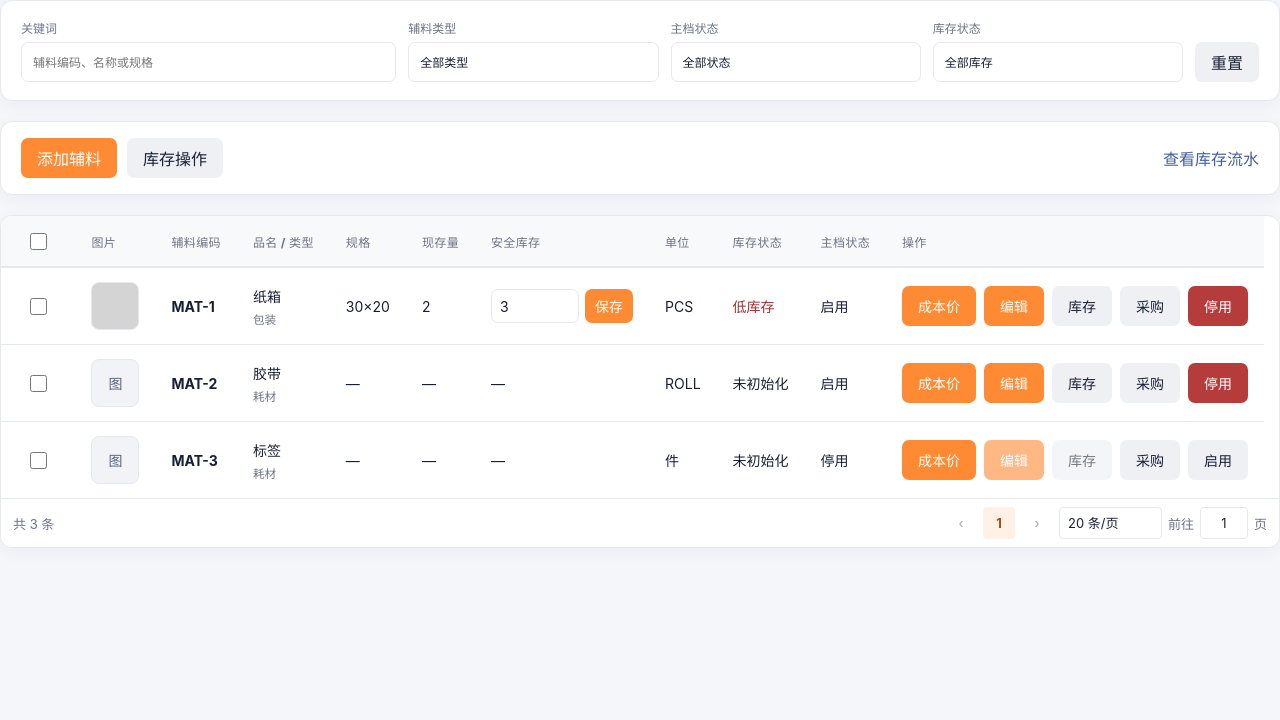
Test: MaterialsView merged material management › shows master data and inventory in one filterable table
The image size is (1280, 720).
Expected: the link to "/inventory/ledger" shows "库存流水", [1163,146,1259,170]
Type "胶带" into the field with placeholder "辅料编码、名称或规格" at (209,62), box [21,42,396,82]
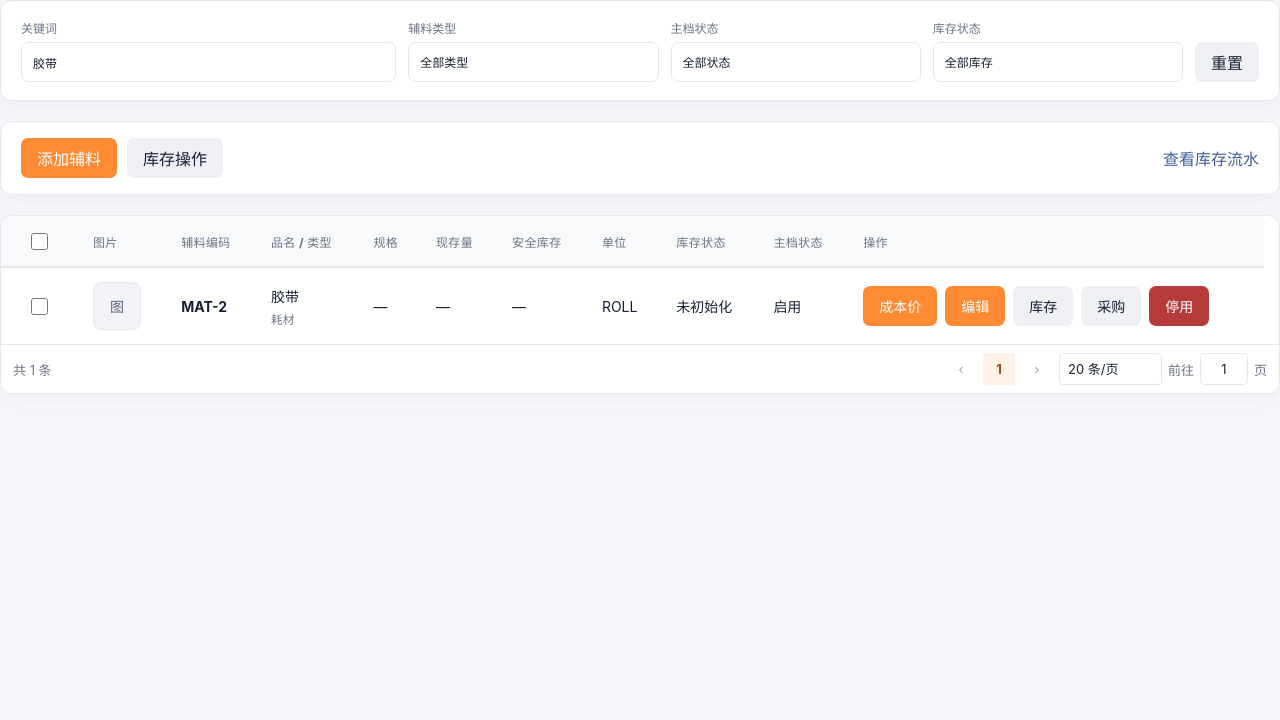
Expected: the text "MAT-2" is shown, [181,298,227,314]
Expected: the text "MAT-1" is gone
